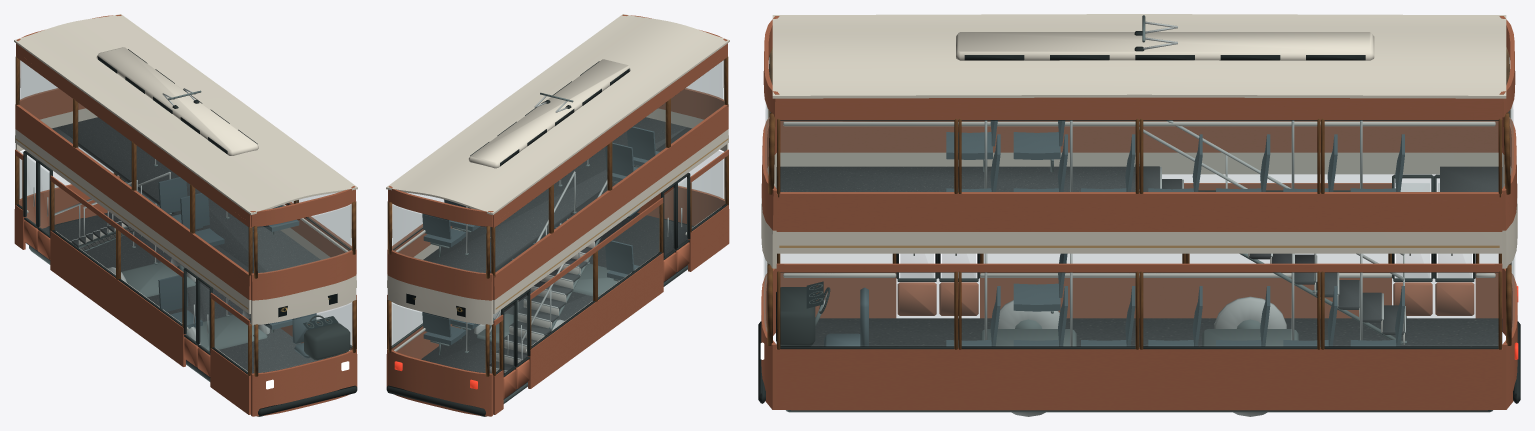
The model's file is vesper-t9-lod1.glb.
3 renders of one model, left to right at view 1: azimuth 30°, elevation 25°; view 2: azimuth 150°, elevation 25°; view 3: azimuth 270°, elevation 25°, orthographic. The views are drawn at different scales.
Visible parts, largest first — view 1: LOD1-tram-detail-1-pearl-batch, LOD1-tram-detail-1-paint-batch, LOD1-tram-detail-1-glass-batch, LOD1-tram-detail-1-floor-batch, LOD1-tram-detail-1-cloth-batch, LOD1-tram-detail-1-wood-batch, LOD1-tram-detail-1-dark-batch, LOD1-tram-detail-1-steel-batch, LOD1-tram-detail-1-metal-batch, LOD1-tram-door-0-port-leaf-1-glass-batch, LOD1-tram-door-1-port-leaf-1-glass-batch, LOD1-tram-detail-1-interior-batch (+8 smaller); view 2: LOD1-tram-detail-1-pearl-batch, LOD1-tram-detail-1-paint-batch, LOD1-tram-detail-1-glass-batch, LOD1-tram-detail-1-floor-batch, LOD1-tram-detail-1-cloth-batch, LOD1-tram-detail-1-wood-batch, LOD1-tram-detail-1-dark-batch, LOD1-tram-detail-1-steel-batch, LOD1-tram-detail-1-interior-batch, LOD1-tram-detail-1-metal-batch, LOD1-tram-door-1-port-leaf--1-glass-batch, LOD1-tram-door-0-port-leaf--1-glass-batch (+7 smaller); view 3: LOD1-tram-detail-1-paint-batch, LOD1-tram-detail-1-glass-batch, LOD1-tram-detail-1-pearl-batch, LOD1-tram-detail-1-floor-batch, LOD1-tram-detail-1-cloth-batch, LOD1-tram-detail-1-dark-batch, LOD1-tram-detail-1-wood-batch, LOD1-tram-detail-1-interior-batch, LOD1-tram-detail-1-steel-batch, LOD1-tram-detail-1-metal-batch, LOD1-tram-detail-1-livery-batch, LOD1-wheel-rear--1-metal-batch (+6 smaller).
Part boxes in pixels (<box>): LOD1-tram-detail-1-pearl-batch: <box>14,14,357,325</box>; LOD1-tram-detail-1-paint-batch: <box>14,14,357,416</box>; LOD1-tram-detail-1-glass-batch: <box>18,60,351,372</box>; LOD1-tram-detail-1-floor-batch: <box>25,117,322,377</box>; LOD1-tram-detail-1-cloth-batch: <box>125,177,316,358</box>; LOD1-tram-detail-1-wood-batch: <box>15,56,356,376</box>; LOD1-tram-detail-1-dark-batch: <box>16,49,357,415</box>; LOD1-tram-detail-1-steel-batch: <box>29,90,274,416</box>; LOD1-tram-detail-1-metal-batch: <box>54,88,317,319</box>; LOD1-tram-door-0-port-leaf-1-glass-batch: <box>39,167,49,234</box>; LOD1-tram-door-1-port-leaf-1-glass-batch: <box>199,284,209,351</box>; LOD1-tram-detail-1-interior-batch: <box>27,204,349,371</box>; LOD1-tram-detail-1-pearl-batch: <box>386,14,729,325</box>; LOD1-tram-detail-1-paint-batch: <box>386,14,729,416</box>; LOD1-tram-detail-1-glass-batch: <box>392,60,725,372</box>; LOD1-tram-detail-1-floor-batch: <box>421,117,693,399</box>; LOD1-tram-detail-1-cloth-batch: <box>422,126,659,345</box>; LOD1-tram-detail-1-wood-batch: <box>387,56,728,376</box>; LOD1-tram-detail-1-dark-batch: <box>386,61,727,415</box>; LOD1-tram-detail-1-steel-batch: <box>430,92,687,416</box>; LOD1-tram-detail-1-interior-batch: <box>394,206,721,373</box>; LOD1-tram-detail-1-metal-batch: <box>466,95,607,371</box>; LOD1-tram-door-1-port-leaf--1-glass-batch: <box>664,189,674,256</box>; LOD1-tram-door-0-port-leaf--1-glass-batch: <box>504,306,514,373</box>; LOD1-tram-detail-1-paint-batch: <box>761,16,1517,410</box>; LOD1-tram-detail-1-glass-batch: <box>763,48,1514,345</box>; LOD1-tram-detail-1-pearl-batch: <box>761,14,1517,268</box>; LOD1-tram-detail-1-floor-batch: <box>776,166,1502,347</box>; LOD1-tram-detail-1-cloth-batch: <box>824,120,1404,347</box>; LOD1-tram-detail-1-dark-batch: <box>758,31,1520,403</box>; LOD1-tram-detail-1-wood-batch: <box>767,47,1511,349</box>; LOD1-tram-detail-1-interior-batch: <box>783,121,1495,344</box>; LOD1-tram-detail-1-steel-batch: <box>786,15,1492,412</box>; LOD1-tram-detail-1-metal-batch: <box>822,21,1405,346</box>; LOD1-tram-detail-1-livery-batch: <box>779,245,1499,247</box>; LOD1-wheel-rear--1-metal-batch: <box>1214,296,1286,328</box>.
Bounding box in the file's own units: 2.27 × 4.69 × 8.93.
14 materials, 5 textured.
